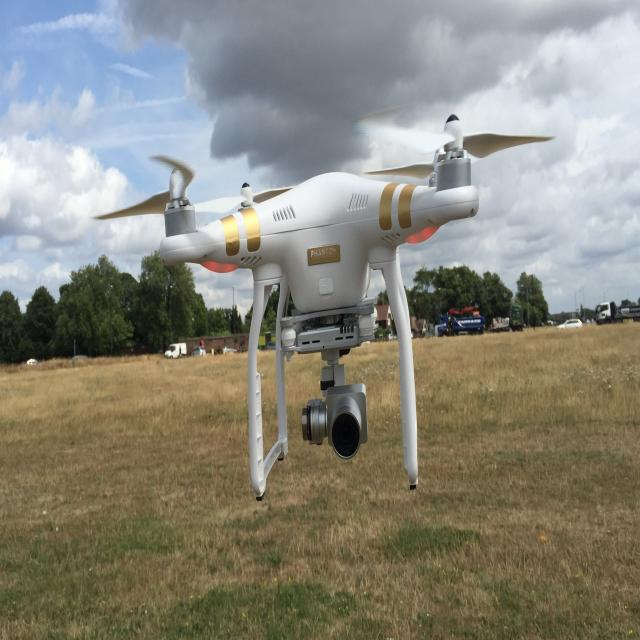drones: (85, 88, 566, 526)
